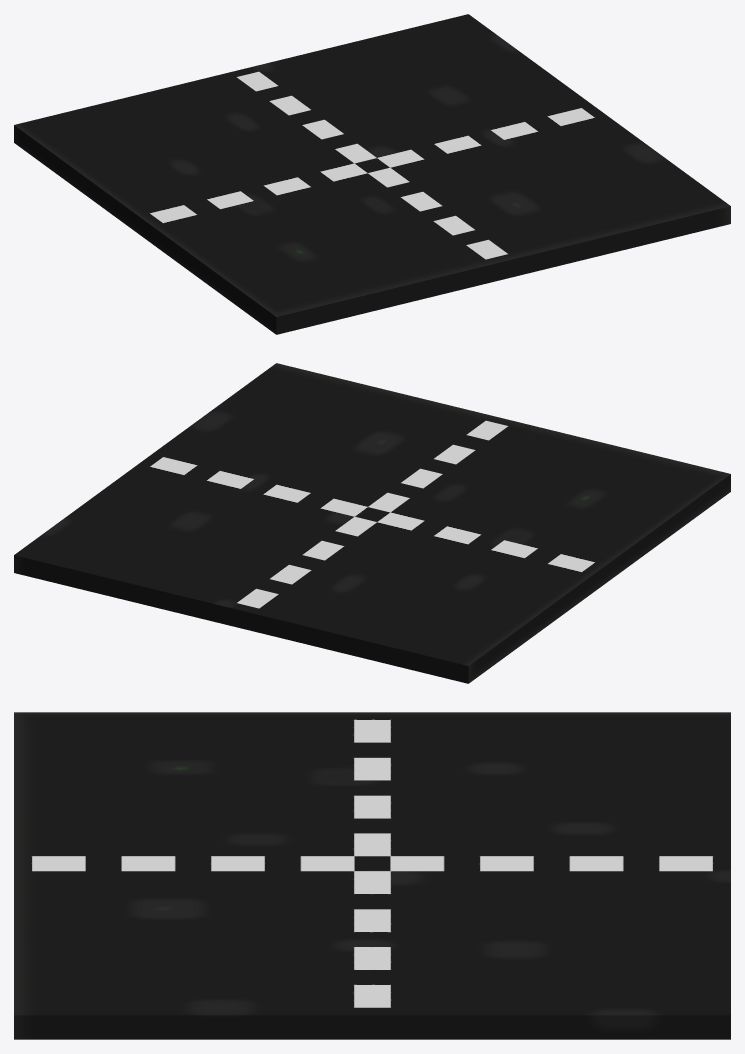
Rendered from road_8x8_4way_00.glb.
3 renders of one model, top to bottom at view 1: azimuth 30°, elevation 25°; view 2: azimuth 150°, elevation 25°; view 3: azimuth 270°, elevation 25°, orthographic. The views are drawn at different scales.
Parts seen in each view (by area): view 1: road_8x8_4way_00; view 2: road_8x8_4way_00; view 3: road_8x8_4way_00.
Part boxes in pixels (box(x1,y1,x2,y2)): road_8x8_4way_00: box(14, 14, 730, 334); road_8x8_4way_00: box(14, 363, 730, 683); road_8x8_4way_00: box(14, 712, 730, 1039).
Size of what is drawn, in the model's own units: 8 by 0.3 by 8.
1 material, 1 textured.
